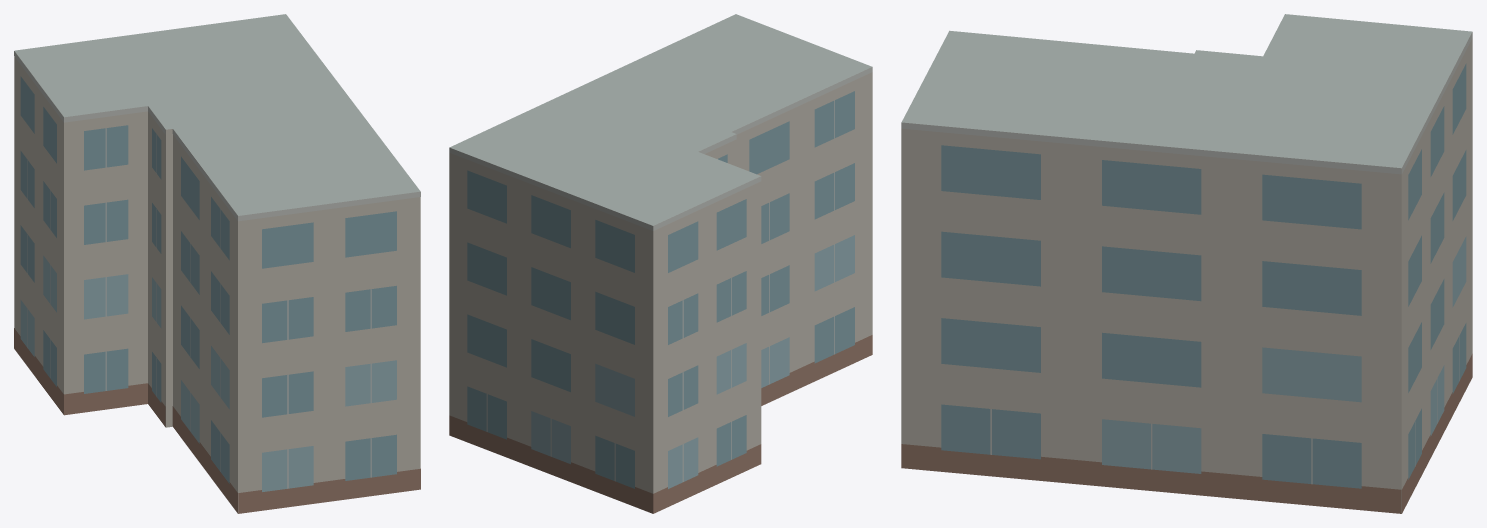
File: survey-upis-32589218.glb
3 views of the same model, side by side, from view 1: azimuth 30°, elevation 25°; view 2: azimuth 150°, elevation 25°; view 3: azimuth 270°, elevation 25° (orthographic). The views are drawn at different scales.
Visible parts, largest first — view 1: survey-upis-32589218.tmp; view 2: survey-upis-32589218.tmp; view 3: survey-upis-32589218.tmp.
Boxes of the visible parts, left/top/right/bottom form: survey-upis-32589218.tmp: left=14, top=14, right=420, bottom=513; survey-upis-32589218.tmp: left=449, top=14, right=872, bottom=513; survey-upis-32589218.tmp: left=901, top=14, right=1472, bottom=513.
Bounding box in the file's own units: 13.02 × 13.6 × 20.38.
